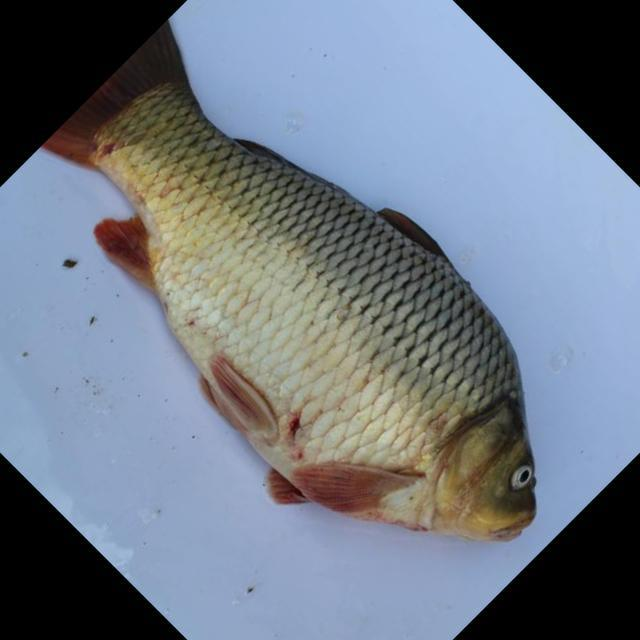CommonCarp: (46, 22, 572, 552)
